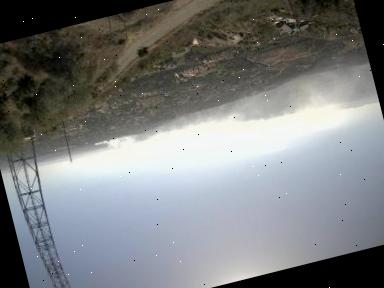smoke: (89, 58, 378, 172)
